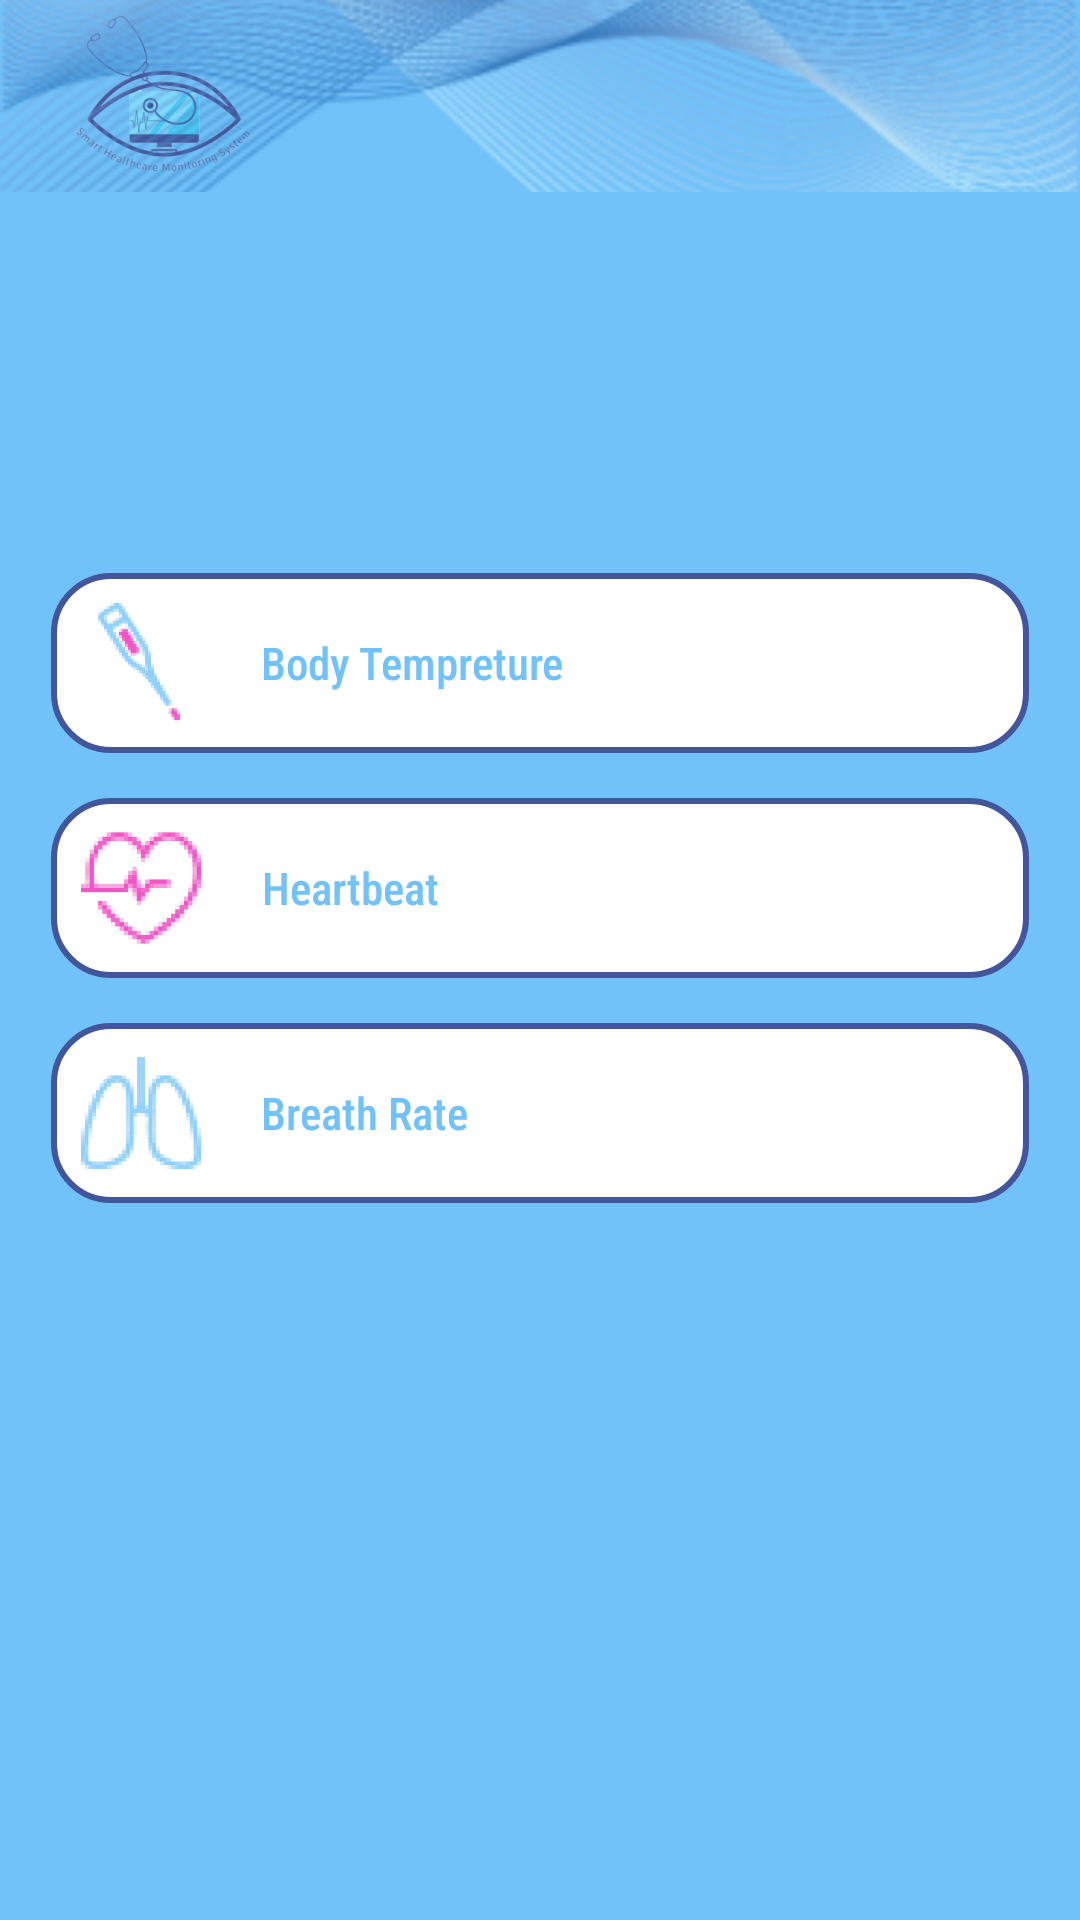

Named icons in this screenshot (1080px x 1920px) and their bounding boxes, bbox=[x1, y1, x2, y2]:
chest: bbox=[81, 1057, 201, 1169]
